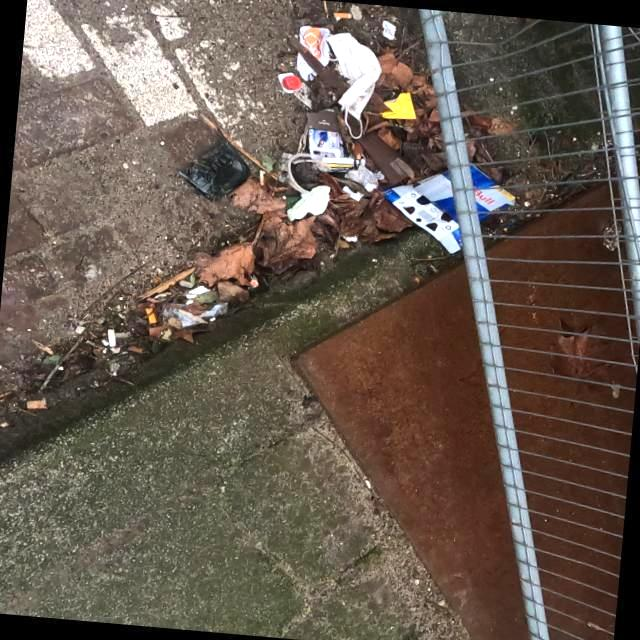Cardboard: (379, 163, 517, 253)
Mask: (320, 30, 382, 140)
Paper: (302, 110, 356, 173), (344, 158, 384, 192)
Plastic: (178, 135, 250, 201), (298, 24, 332, 68), (378, 91, 417, 119)
Styrofoam: (282, 182, 334, 220)
